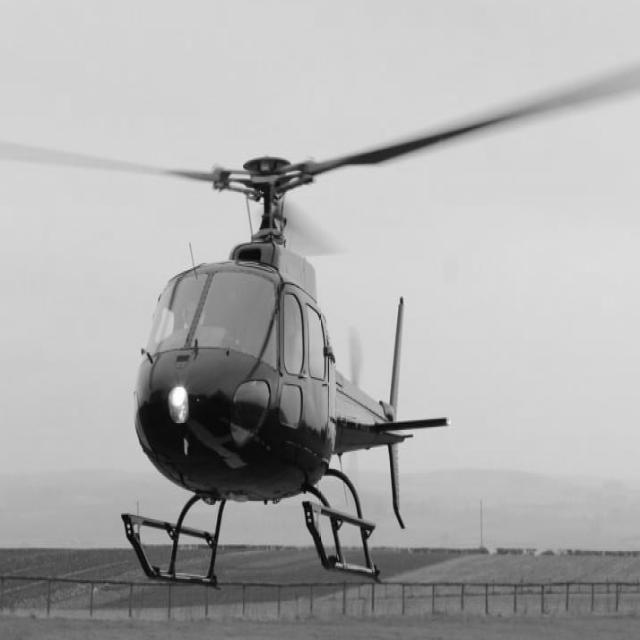helicopter: (1, 129, 590, 588)
